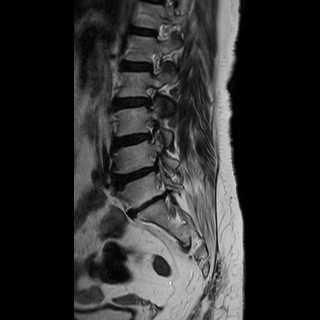RFS1: (139, 114, 162, 146), (140, 80, 161, 112)
